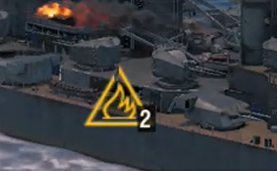2fire: (78, 91, 157, 134)
